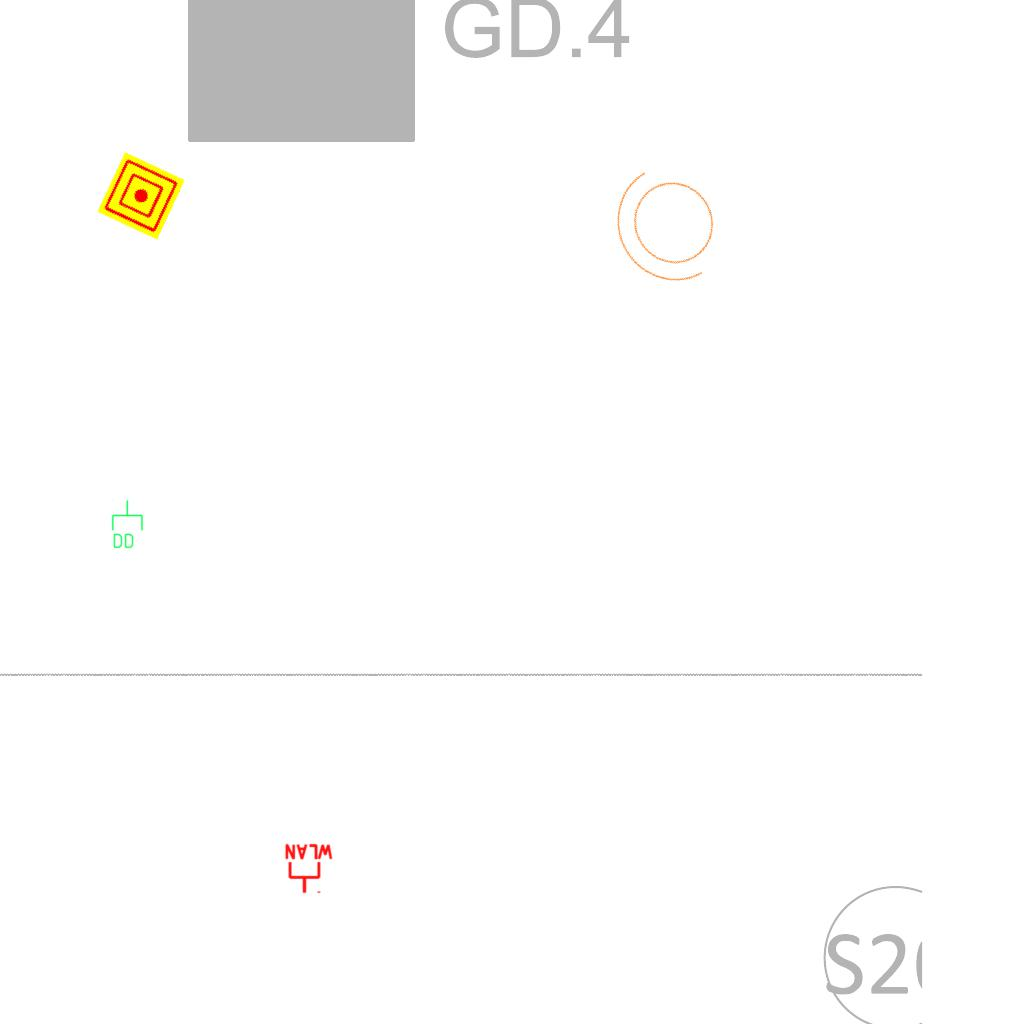Datenanschluss_zweifach: (110, 499, 144, 550)
NAM-Nichtautomatischer_Melder: (97, 152, 185, 240)
Scheinwerfer_fuer_Alarmbeleuchtung: (589, 142, 753, 314)
WLAN: (283, 843, 335, 895)
